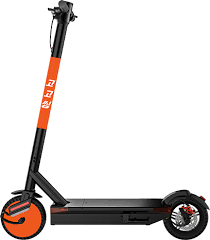kick_board: (1, 1, 210, 240)
kick_body: (64, 200, 153, 224)
kick_handler: (47, 1, 78, 22)
kick_neck: (27, 25, 66, 184)
kick_wheel: (162, 190, 210, 240), (2, 196, 47, 240)
